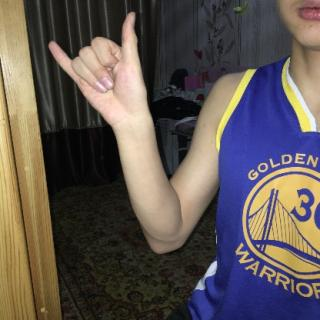YA: (46, 10, 158, 127)
